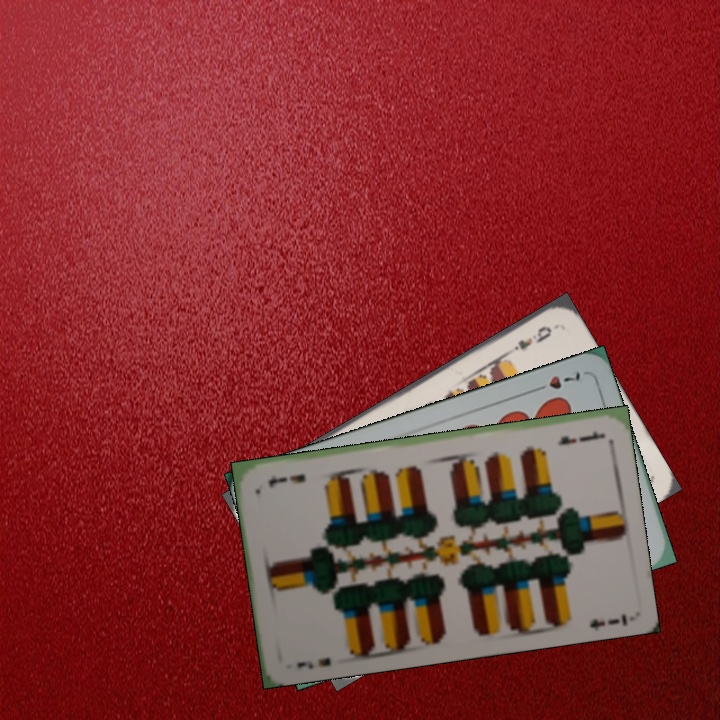E7: (553, 427, 605, 448), (292, 654, 334, 672)
E9: (503, 321, 555, 355)
H7: (528, 367, 583, 395)
